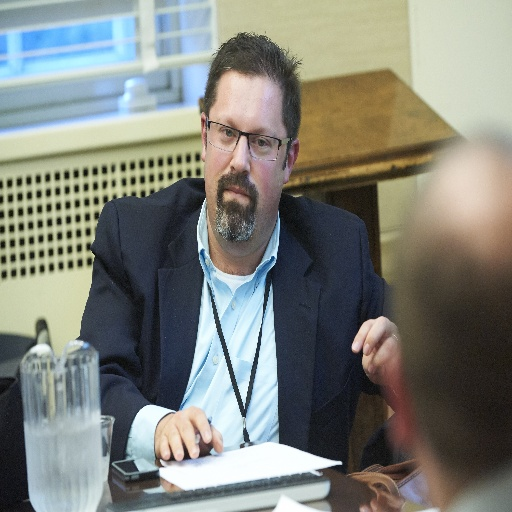hand: (347, 313, 413, 407), (154, 402, 223, 464)
